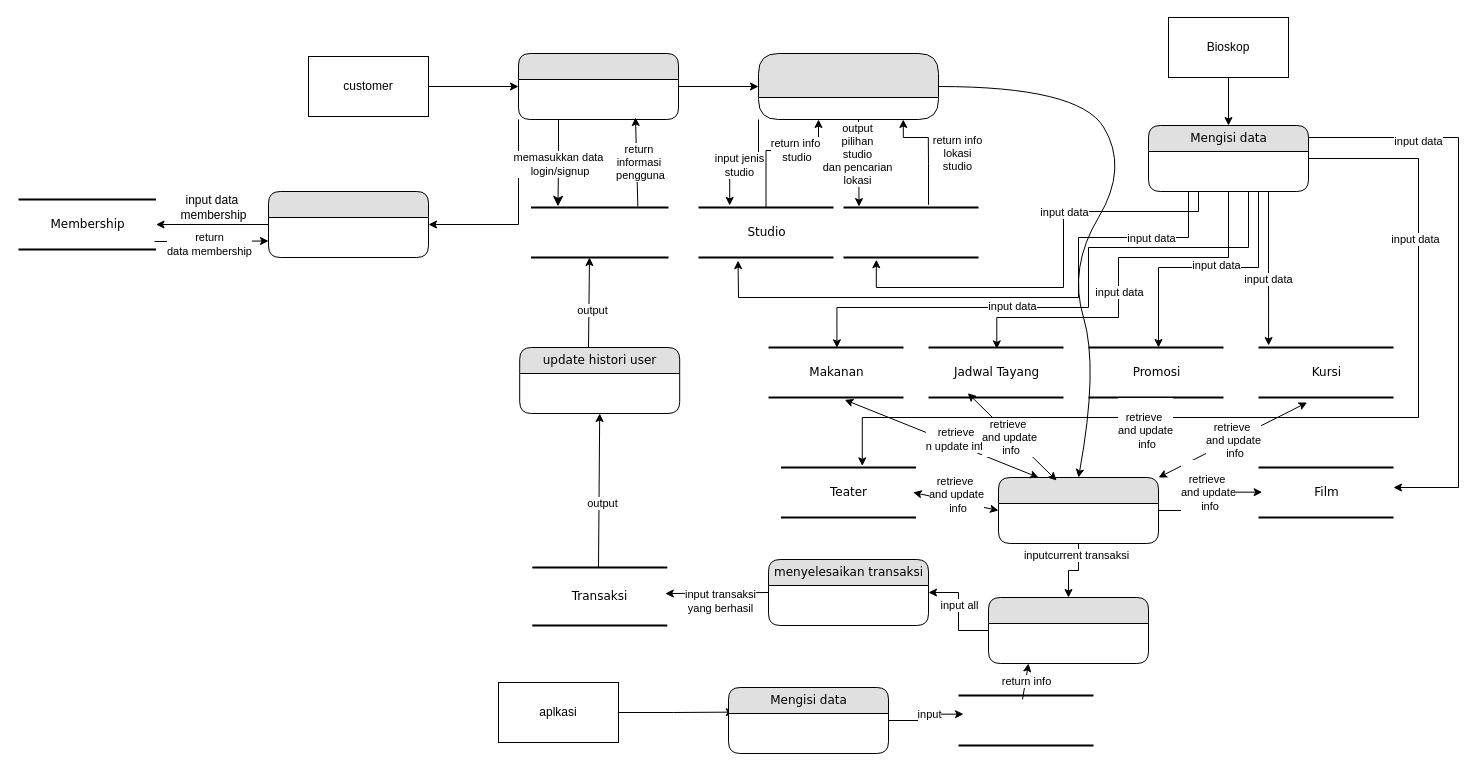
The diagram is 1484 pixels wide and 771 high, and some of its shapes have lost their labels. The shapes that lost their labels are listed below. From the top down, each one's box as (x1, y1, x2, y2) in pixels, then its label:
(518, 52, 678, 120): Sign Up/Login
(758, 52, 938, 120): memilih studio dan lokasi studio
(268, 190, 428, 258): Mendaftar Membership
(530, 206, 669, 258): User
(842, 206, 979, 258): Lokasi Studio
(998, 476, 1158, 544): membeli tiket
(988, 596, 1148, 664): membayar
(957, 694, 1094, 746): Jenis pembayaran
